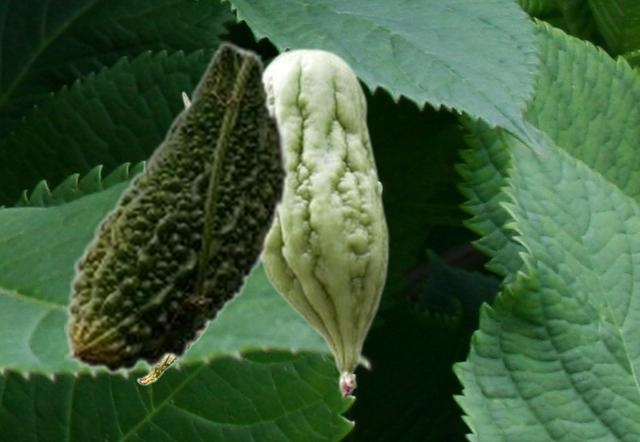ampalaya: (64, 41, 290, 374), (259, 47, 389, 398)
